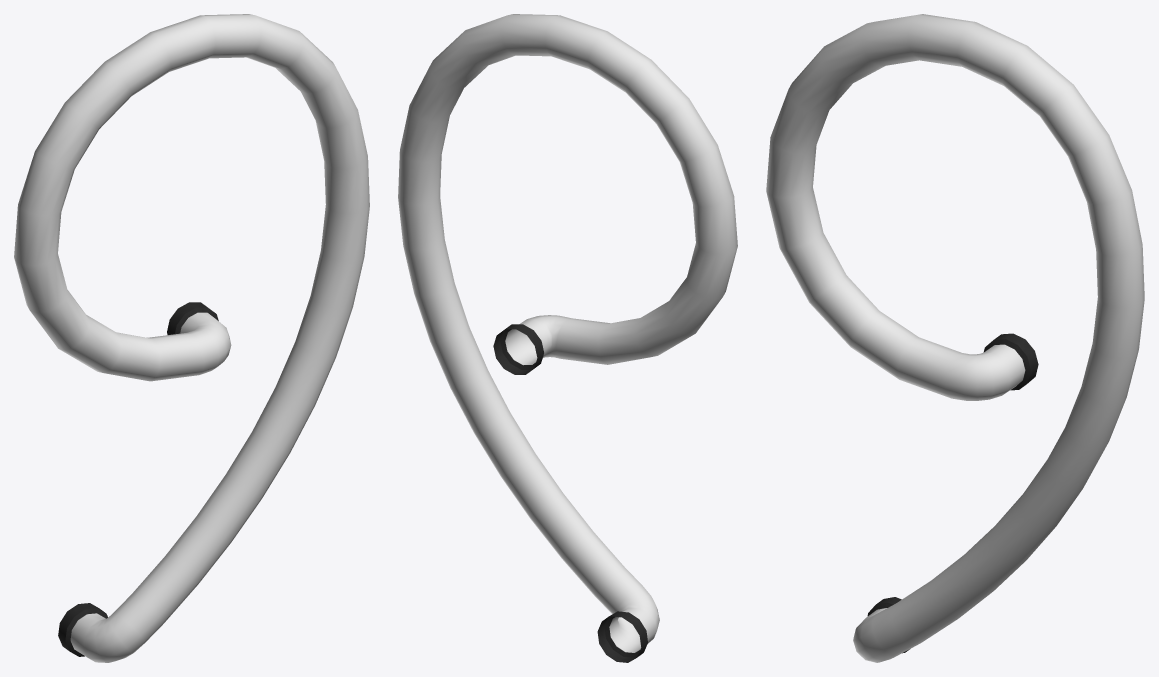
Rendered from LettersNeon01_9.FBX.
The picture shows the model from 3 angles, left to right: view 1: azimuth 30°, elevation 25°; view 2: azimuth 150°, elevation 25°; view 3: azimuth 330°, elevation 25°; orthographic projection. The views are drawn at different scales.
Parts seen in each view (by area): view 1: LettersNeon01_9; view 2: LettersNeon01_9; view 3: LettersNeon01_9.
Part boxes in pixels (x1,y1,x2,y2): LettersNeon01_9: (14, 14, 369, 662); LettersNeon01_9: (398, 14, 737, 662); LettersNeon01_9: (766, 14, 1144, 662).
Size of what is drawn, in the model's own units: 0.2756 by 0.4755 by 0.054.
